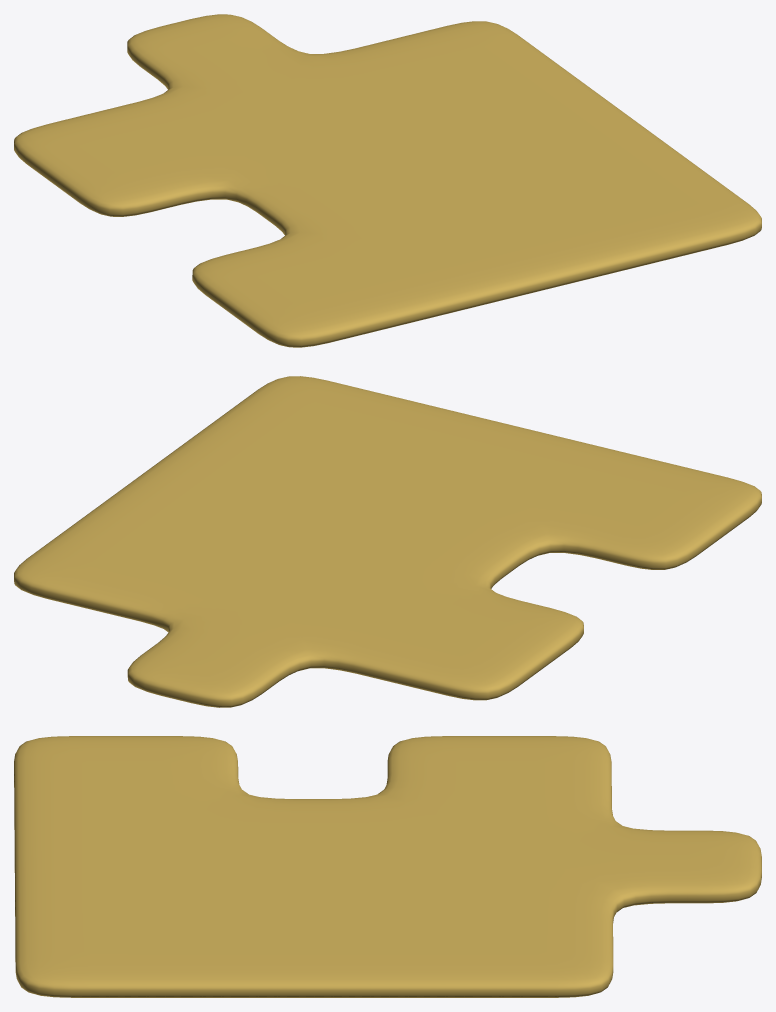
Rendered from GoldenPuzzle-20-OOFM.fbx.
The picture shows the model from 3 angles, top to bottom: view 1: azimuth 30°, elevation 25°; view 2: azimuth 150°, elevation 25°; view 3: azimuth 270°, elevation 25°; orthographic projection. The views are drawn at different scales.
Visible parts, largest first — view 1: Puzzle_020; view 2: Puzzle_020; view 3: Puzzle_020.
Part boxes in pixels (<box>): Puzzle_020: <box>14,14,761,347</box>; Puzzle_020: <box>14,376,761,707</box>; Puzzle_020: <box>14,736,761,997</box>.
Bounding box in the file's own units: 0.25 × 0.00924 × 0.3137.
